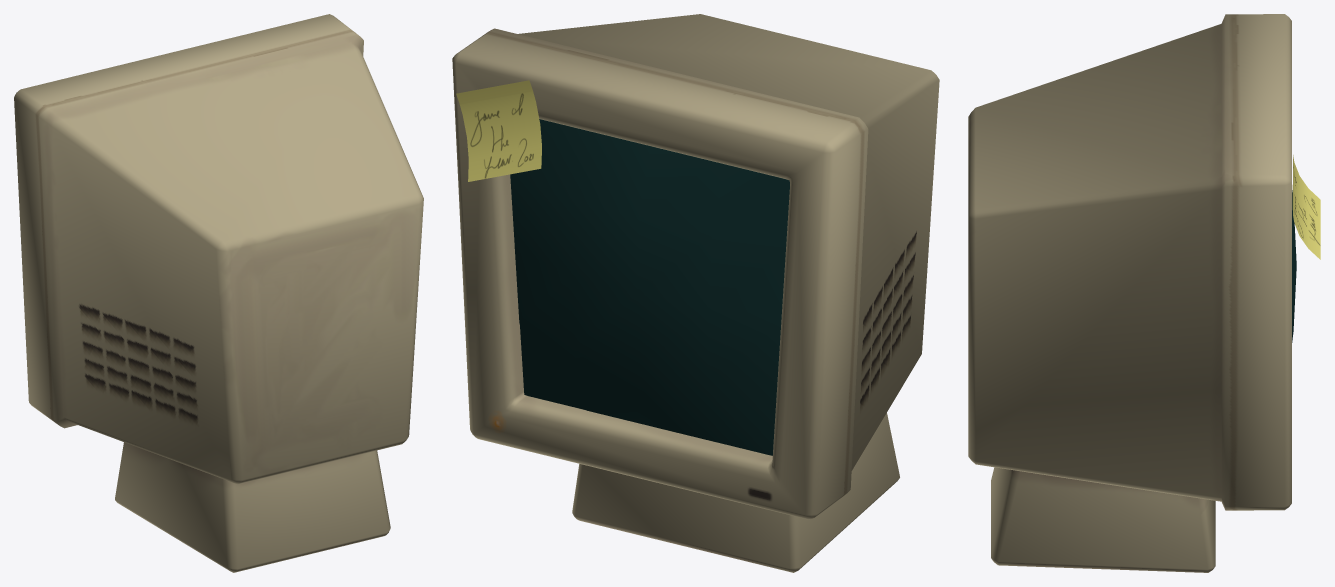
Rendered from PRP_Monitor.fbx.
3 renders of one model, left to right at view 1: azimuth 30°, elevation 25°; view 2: azimuth 150°, elevation 25°; view 3: azimuth 270°, elevation 25°, orthographic. The views are drawn at different scales.
Parts seen in each view (by area): view 1: Cube.004; view 2: Cube.004; view 3: Cube.004.
Part boxes in pixels (box(x1,y1,x2,y2)): Cube.004: box(14, 14, 423, 572); Cube.004: box(452, 14, 939, 572); Cube.004: box(968, 14, 1320, 572).
Size of the model in its own units: 307 by 368 by 273.
2 materials, 1 textured.
